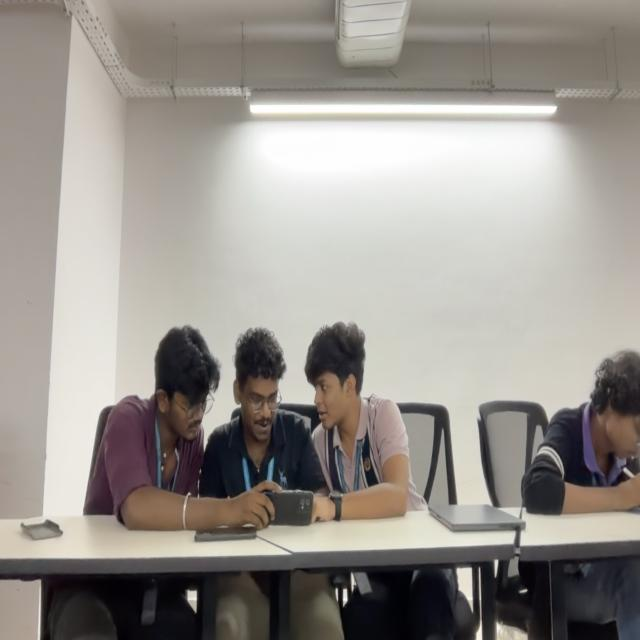Isolated: (523, 351, 640, 511)
socializing: (90, 325, 426, 519)
